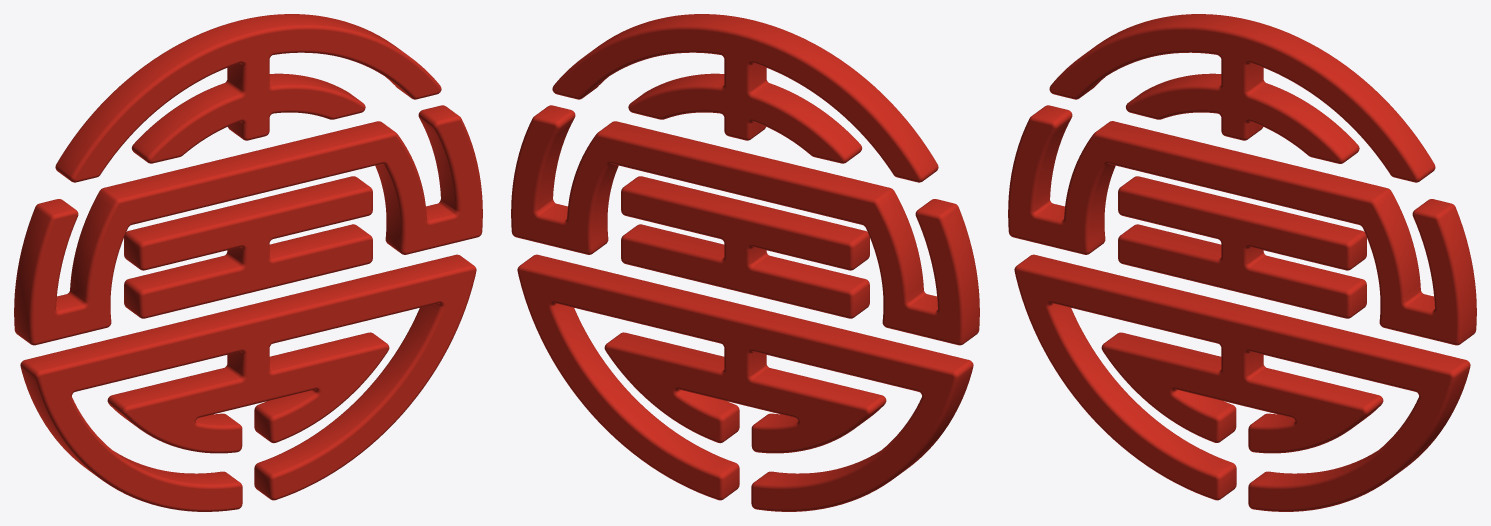
Rendered from shou-sello-ligera.glb.
The picture shows the model from 3 angles, left to right: view 1: azimuth 30°, elevation 25°; view 2: azimuth 150°, elevation 25°; view 3: azimuth 330°, elevation 25°; orthographic projection.
Visible parts, largest first — view 1: geometry_0; view 2: geometry_0; view 3: geometry_0.
Part boxes in pixels (box(x1,y1,x2,y2)): geometry_0: box(14, 14, 482, 511); geometry_0: box(511, 14, 979, 511); geometry_0: box(1008, 14, 1476, 511).
Size of the model in its own units: 1 by 0.9978 by 0.0699.
